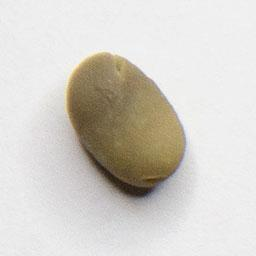peaberry: (62, 48, 190, 192)
